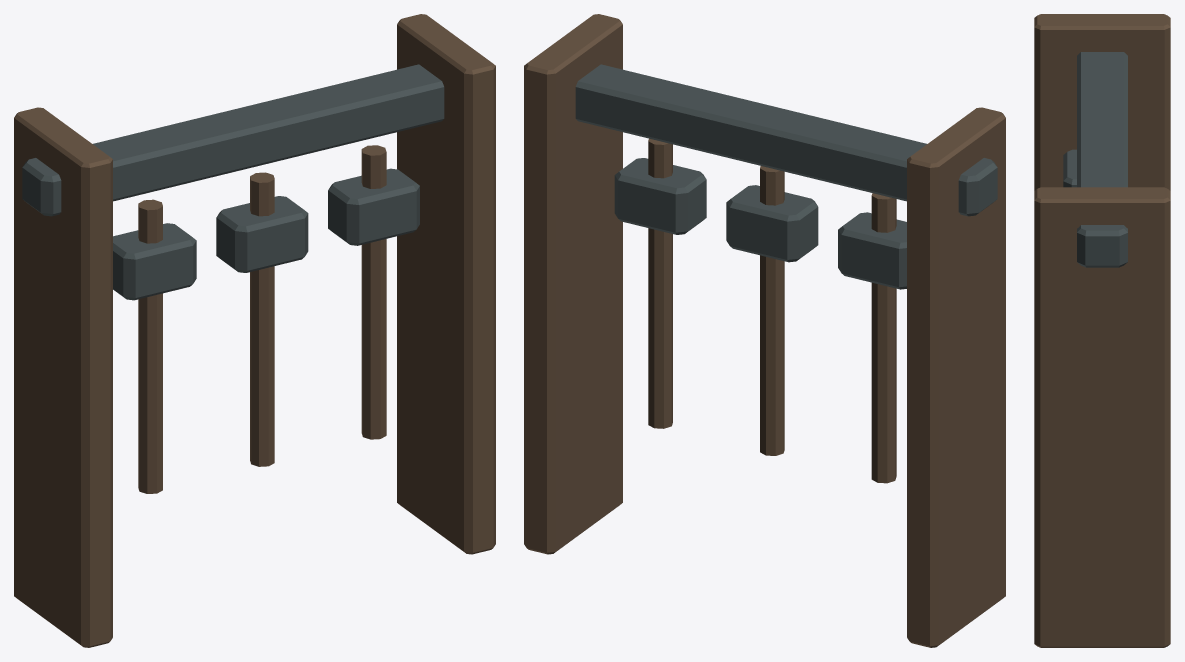
The model's file is tool-rack.glb.
3 views of the same model, side by side, from view 1: azimuth 30°, elevation 25°; view 2: azimuth 150°, elevation 25°; view 3: azimuth 270°, elevation 25° (orthographic). The views are drawn at different scales.
Visible parts, largest first — view 1: tool-rack__body; view 2: tool-rack__body; view 3: tool-rack__body.
Part boxes in pixels (x1,y1,x2,y2): tool-rack__body: [14, 14, 495, 647]; tool-rack__body: [524, 14, 1005, 647]; tool-rack__body: [1034, 14, 1170, 647].
Size of the model in its own units: 1.4 by 1.45 by 0.4.
